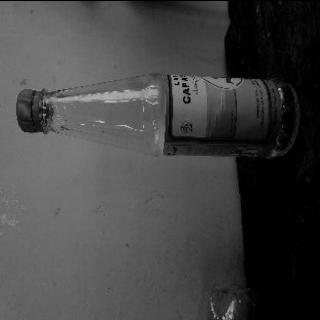plastic_bottles: (14, 70, 302, 160)
